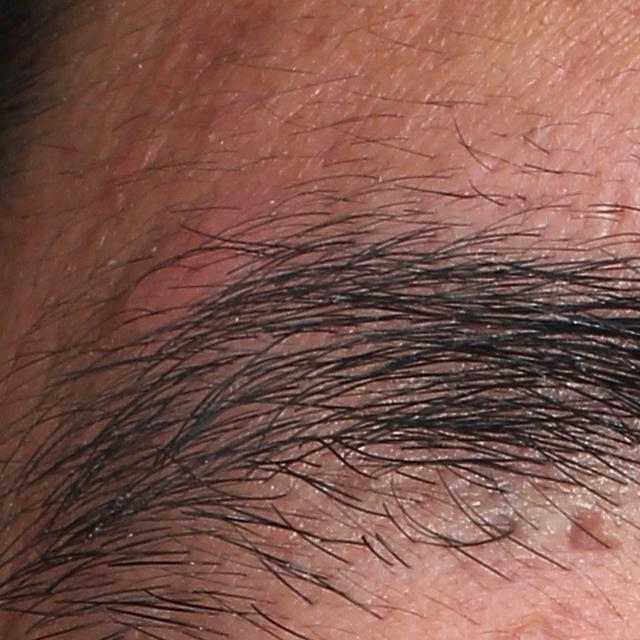atrophic_scar: (564, 505, 627, 559), (603, 174, 639, 237)
